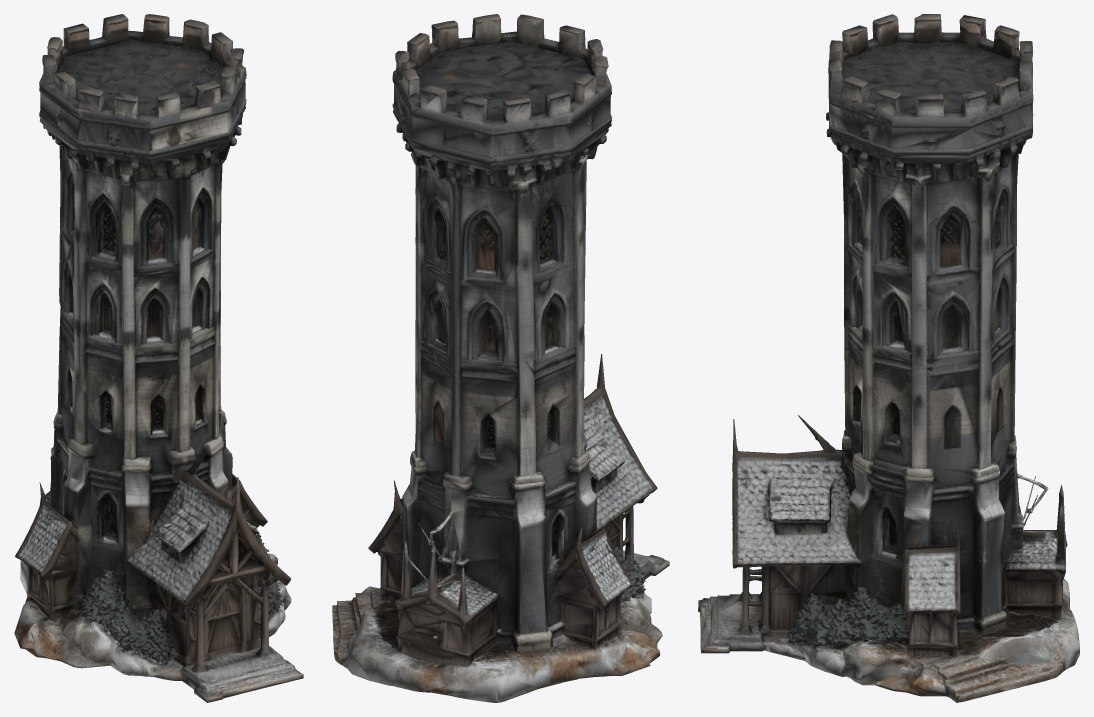
The model's file is gt_winter.glb.
3 views of the same model, side by side, from view 1: azimuth 30°, elevation 25°; view 2: azimuth 150°, elevation 25°; view 3: azimuth 270°, elevation 25° (orthographic). The views are drawn at different scales.
Parts seen in each view (by area): view 1: gt_winter; view 2: gt_winter; view 3: gt_winter.
Part boxes in pixels (x1,y1,x2,y2): gt_winter: (14,14,303,702); gt_winter: (332,14,669,702); gt_winter: (698,14,1079,702).
Size of the model in its own units: 1.06 by 2 by 1.21.
1 material, 1 textured.
